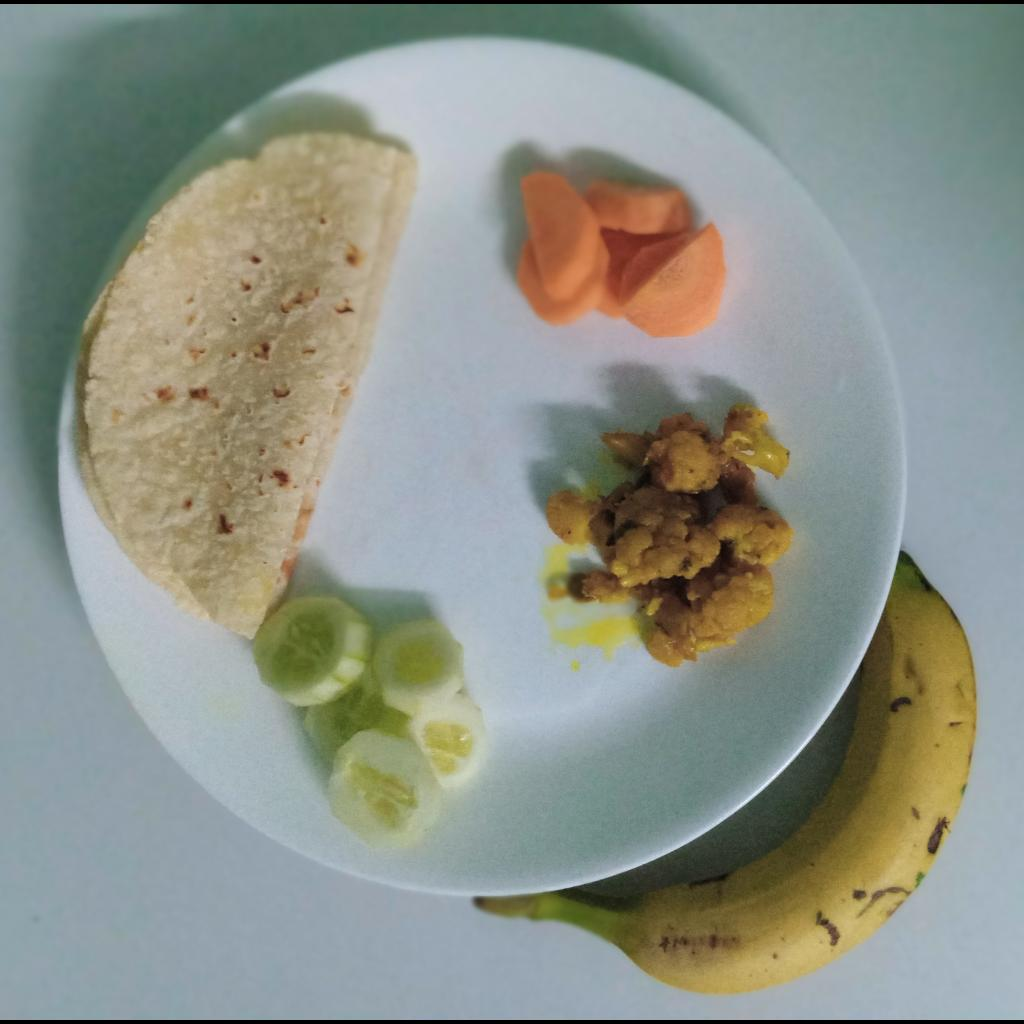banana: (473, 550, 977, 997)
carrot: (518, 173, 727, 340)
cauliflower: (548, 405, 794, 667)
cucumber: (251, 598, 493, 855)
ruti: (72, 131, 415, 640)
